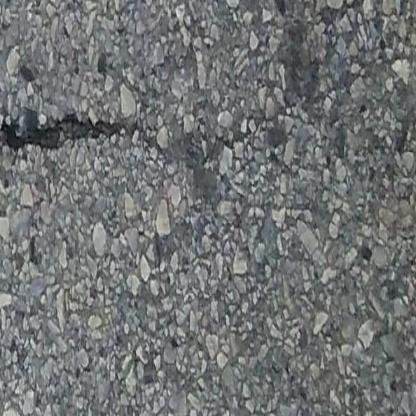Cracks: (0, 111, 129, 156)
